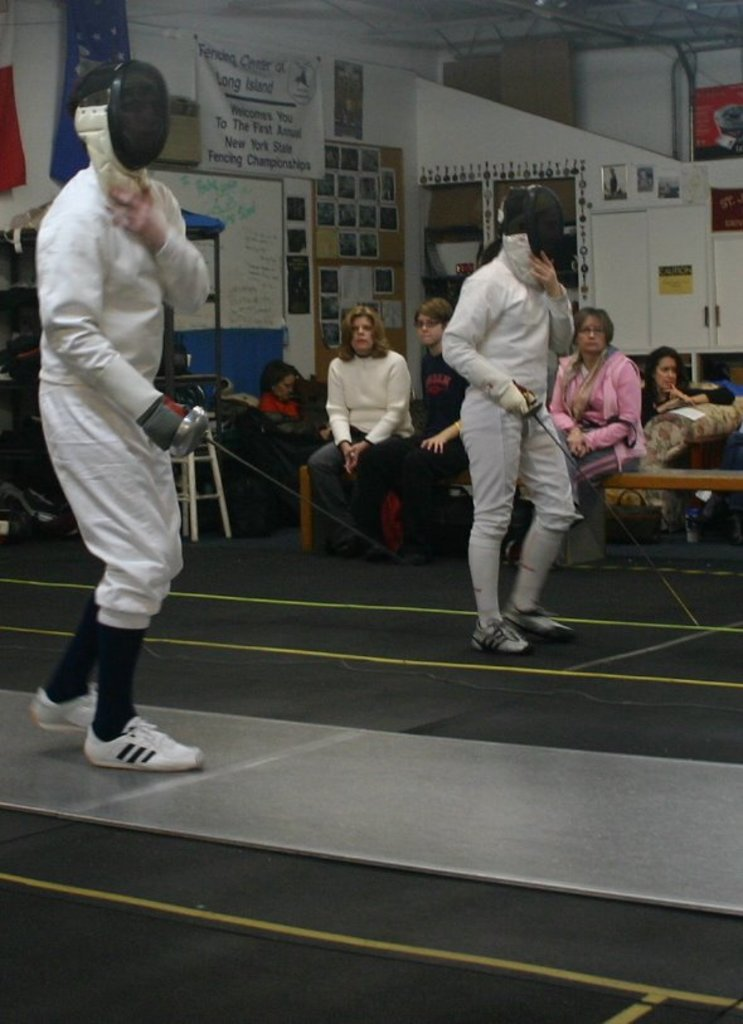Person: (31, 55, 734, 773)
